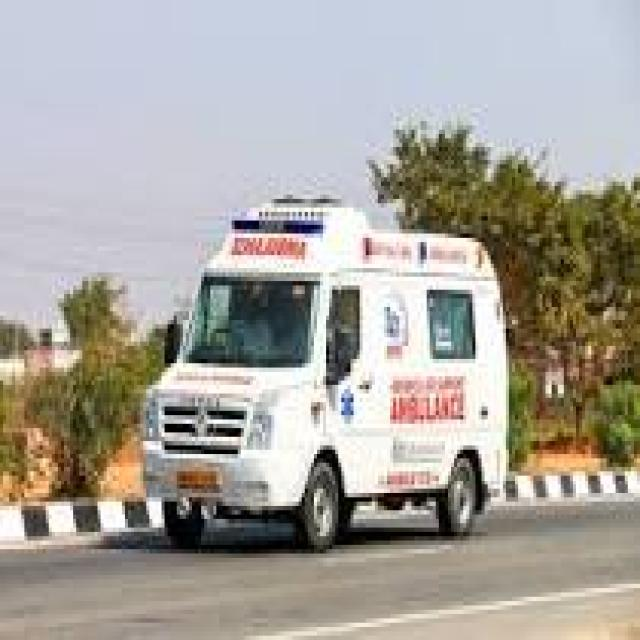Ambulance: (124, 180, 518, 556)
